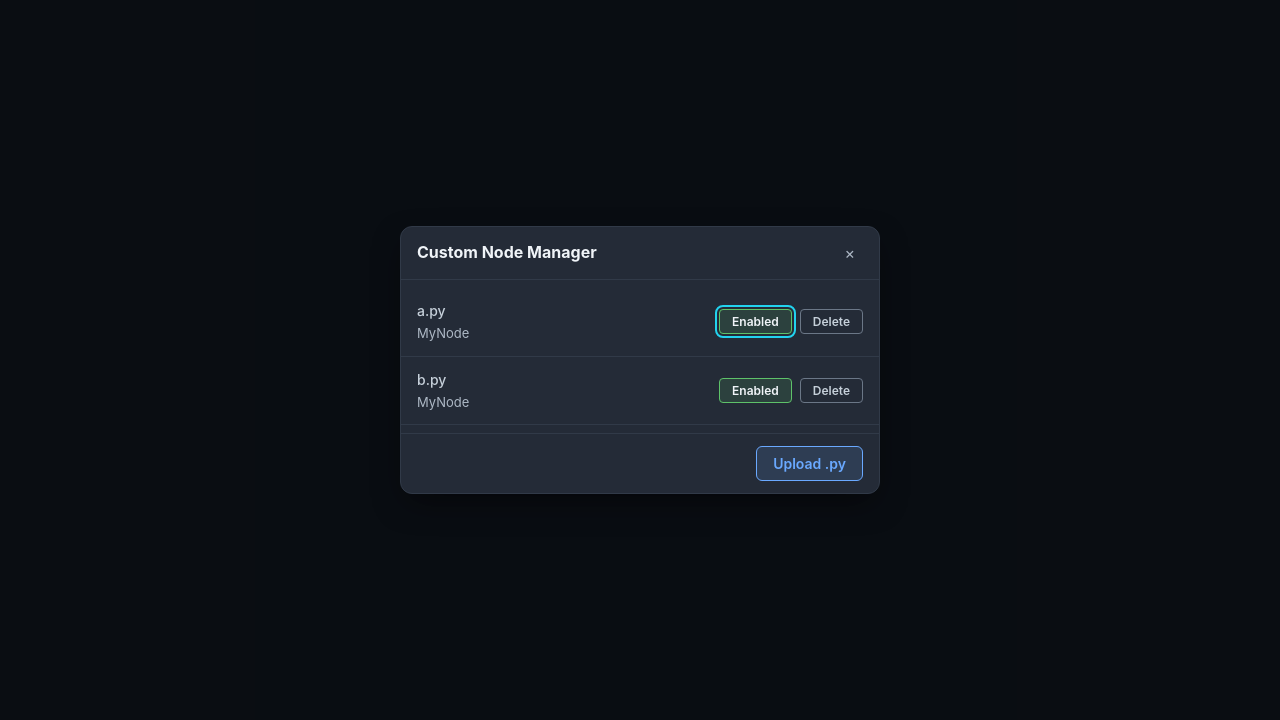
Test: CustomNodeManager focus and re-reads › keeps the rows up while it re-reads, and focus on the toggle that was pressed
expect the text "a.py" is shown: met, box left=417, top=302, right=446, bottom=319
What coordinates should you click on to do the following:
click the button "Enabled" in the row of "a.py"
I would click on:
 (755, 322)
Its box is left=719, top=309, right=792, bottom=334.
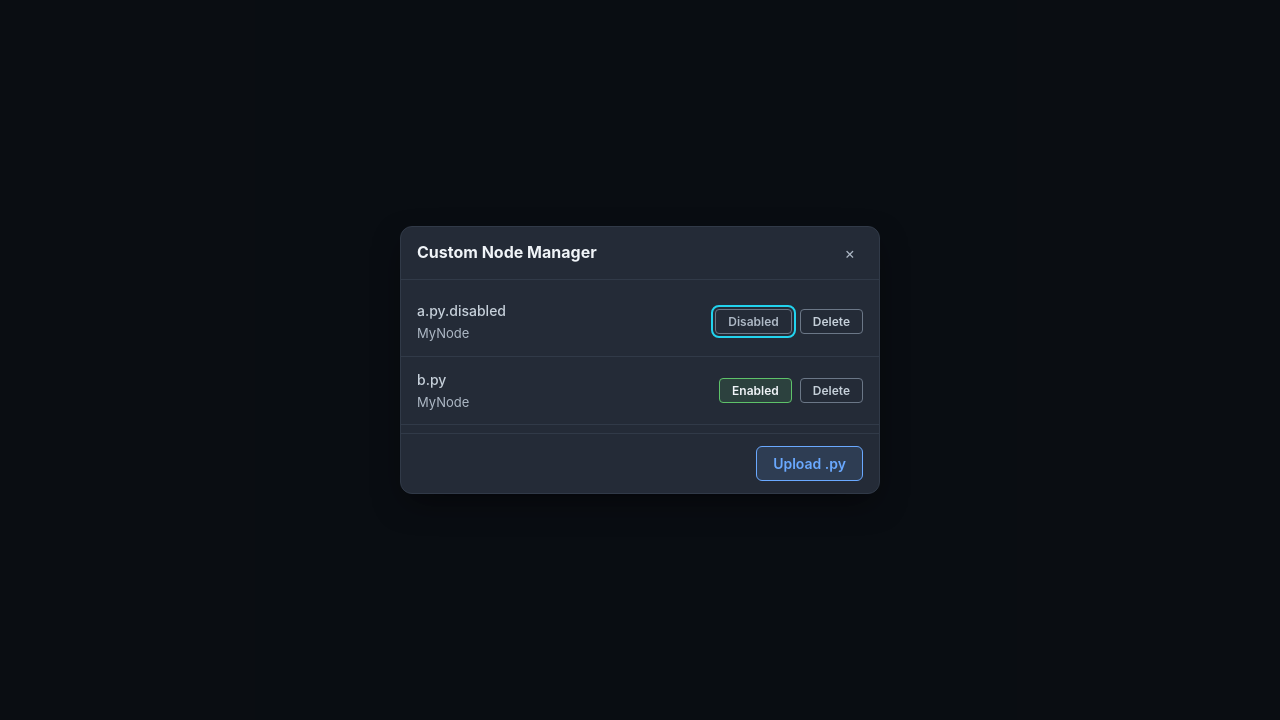
expect the text "b.py" is shown: met, box left=417, top=370, right=446, bottom=388
expect the text "a.py.disabled" is shown: met, box left=417, top=302, right=506, bottom=319
expect the button "Disabled" is shown: met, box left=715, top=309, right=792, bottom=334
